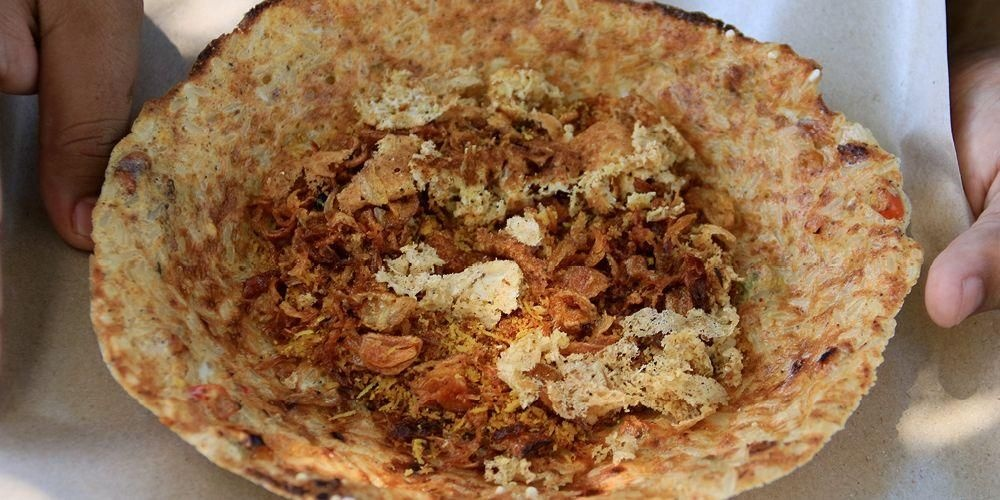kerak_telor: (86, 2, 925, 500)
